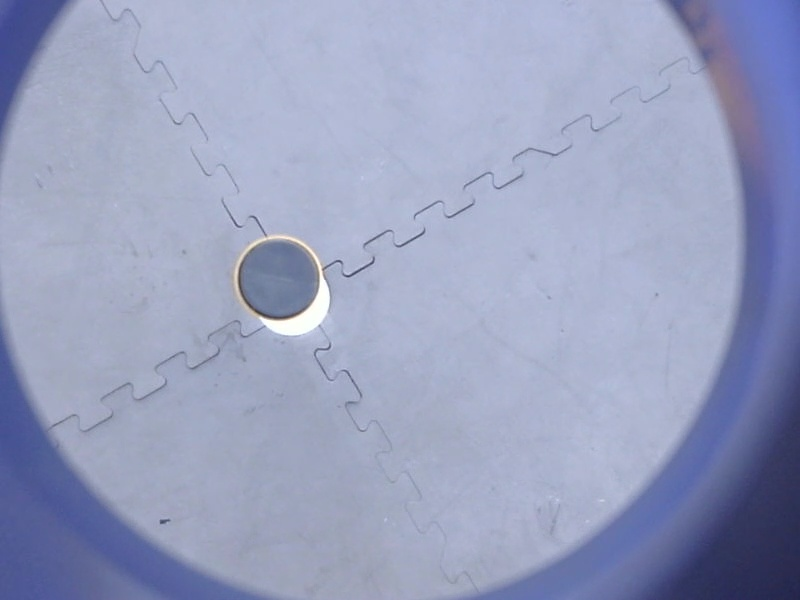tip: (230, 231, 327, 323)
